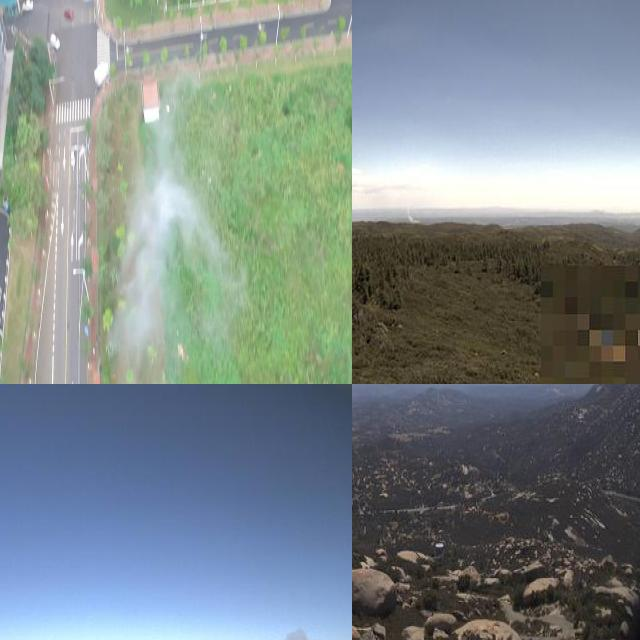smoke: (112, 174, 231, 371), (260, 623, 337, 640), (400, 195, 422, 222)
